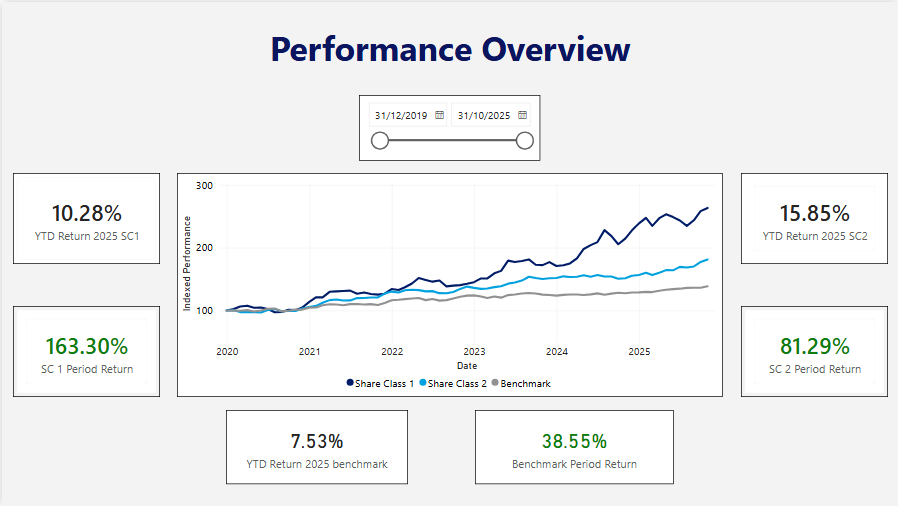

This screenshot's page, from the dashboard's own definition file:
{"tool":"powerbi","page":{"name":"Performance Overview","canvas":[1280,720],"ordinal":0},"visuals":[{"type":"lineChart","title":"Track Record","fields":{"Category":["SimulatedData.Date.Variation.Date Hierarchy.Year"],"Y":["Sum(SimulatedData.ShareClass1_Rebased)","Sum(SimulatedData.ShareClass2_Rebased)","Max(SimulatedData.Benchmark_Rebased)"]},"box":[250,244.3,780,320],"z":1000},{"type":"slicer","fields":{"Values":["SimulatedData.Date"]},"box":[510.7,132.9,258.6,94.3],"z":2000},{"type":"cardVisual","fields":{"Data":["SimulatedData.YTD Return 2025 SC2"]},"box":[1055,244.3,210,130],"z":3000},{"type":"cardVisual","fields":{"Data":["SimulatedData.YTD Return 2025 SC1"]},"box":[15.7,244.3,210,130],"z":4000},{"type":"card","fields":{"Values":["SimulatedData.YTD Return 2025 benchmark"]},"box":[320.2,582.9,260,105.7],"z":5000},{"type":"cardVisual","fields":{"Data":["SimulatedData.Slicer Return 2025 SC1"]},"box":[15,434.3,210,130],"z":6000},{"type":"cardVisual","fields":{"Data":["SimulatedData.SC_2 Slicer Return"]},"box":[1055,434.3,210,130],"z":7000},{"type":"card","fields":{"Values":["SimulatedData.Benchmark Slicer Return"]},"box":[675.5,582.9,284.3,105.7],"z":8000},{"type":"textbox","box":[302.9,27.5,674.3,74.3],"z":10000}]}

Visuals, with their boxes in screenshot pixels (x1, y1, x2, y2), scaled from the page's 1280x720 canvas onto the 898x506 screenshot:
"Track Record" lineChart: rect(175, 172, 723, 397)
slicer - SimulatedData.Date: rect(358, 93, 540, 160)
cardVisual - SimulatedData.YTD Return 2025 SC2: rect(740, 172, 887, 263)
cardVisual - SimulatedData.YTD Return 2025 SC1: rect(11, 172, 158, 263)
card - SimulatedData.YTD Return 2025 benchmark: rect(225, 410, 407, 484)
cardVisual - SimulatedData.Slicer Return 2025 SC1: rect(11, 305, 158, 397)
cardVisual - SimulatedData.SC_2 Slicer Return: rect(740, 305, 887, 397)
card - SimulatedData.Benchmark Slicer Return: rect(474, 410, 673, 484)
textbox: rect(213, 19, 686, 72)
